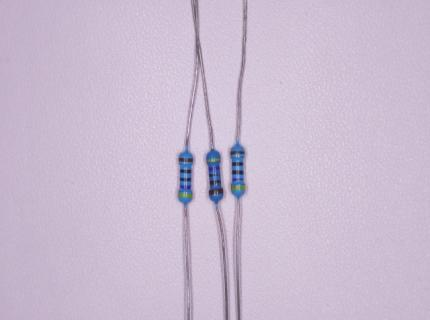Black band: (209, 180, 221, 186), (232, 169, 244, 175), (209, 173, 221, 179), (232, 162, 244, 167), (180, 169, 191, 174), (180, 177, 191, 181)
Brown band: (207, 188, 223, 196), (179, 157, 193, 163), (231, 151, 245, 155)
Violet band: (208, 166, 219, 172), (179, 185, 191, 190), (232, 178, 244, 181)
Yellow band: (206, 157, 221, 163), (178, 192, 193, 198), (231, 185, 245, 190)
